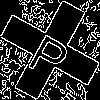P: (25, 25, 77, 81)
